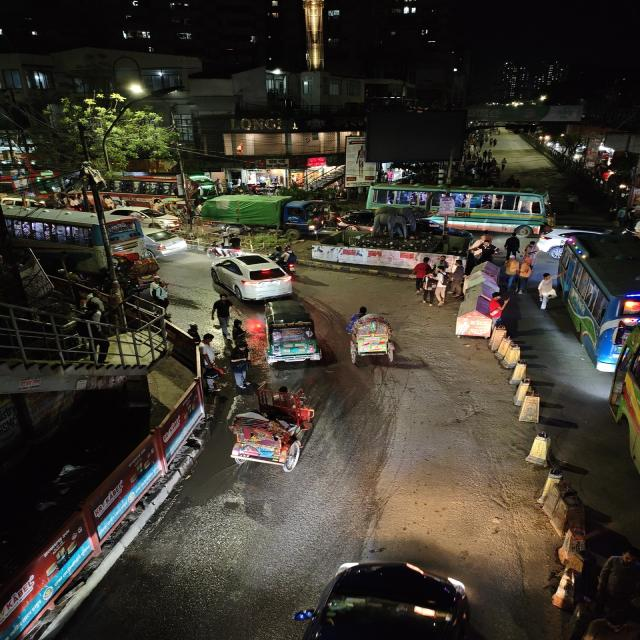bus: (554, 230, 640, 370), (607, 304, 640, 478), (31, 213, 136, 267), (458, 190, 556, 239)
car: (206, 254, 300, 302), (146, 230, 188, 256)
cng: (261, 299, 325, 367)
motorcycle: (280, 248, 301, 273)
pedestrian: (503, 254, 532, 294), (210, 294, 237, 332), (447, 258, 470, 300), (411, 256, 434, 296), (534, 271, 557, 311), (486, 292, 510, 322), (423, 272, 444, 306), (503, 233, 522, 261), (522, 239, 540, 267)
pickup_van: (212, 197, 326, 240)
rickshaw: (225, 384, 327, 476), (336, 302, 406, 368), (220, 235, 249, 255)
